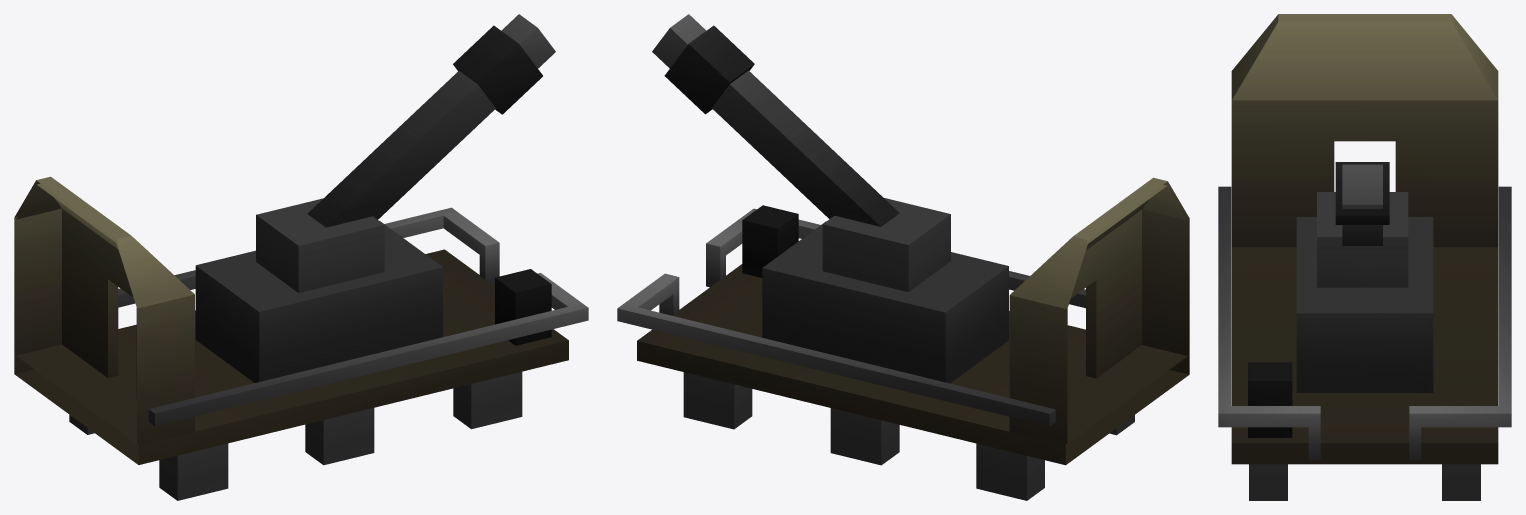
Rendered from train_half_heavy_gun_everything_placeholder_v001.fbx.
3 renders of one model, left to right at view 1: azimuth 30°, elevation 25°; view 2: azimuth 150°, elevation 25°; view 3: azimuth 270°, elevation 25°, orthographic. The views are drawn at different scales.
Visible parts, largest first — view 1: body heavy weapon.001, heavy weapon pewpew, heavy weapon base.001, terminal; view 2: body heavy weapon.001, heavy weapon pewpew, heavy weapon base.001, terminal; view 3: body heavy weapon.001, heavy weapon base.001, heavy weapon pewpew, terminal.
Boxes of the visible parts, <box> form: body heavy weapon.001: <box>14,176,588,500</box>; heavy weapon pewpew: <box>307,14,555,227</box>; heavy weapon base.001: <box>256,198,384,292</box>; terminal: <box>495,269,551,345</box>; body heavy weapon.001: <box>617,177,1189,500</box>; heavy weapon pewpew: <box>652,14,899,226</box>; heavy weapon base.001: <box>822,198,950,291</box>; terminal: <box>742,205,798,277</box>; body heavy weapon.001: <box>1218,14,1511,500</box>; heavy weapon base.001: <box>1317,192,1408,287</box>; heavy weapon pewpew: <box>1335,162,1389,245</box>; terminal: <box>1248,362,1292,437</box>.
Size of the model in its own units: 331 by 457 by 654.
